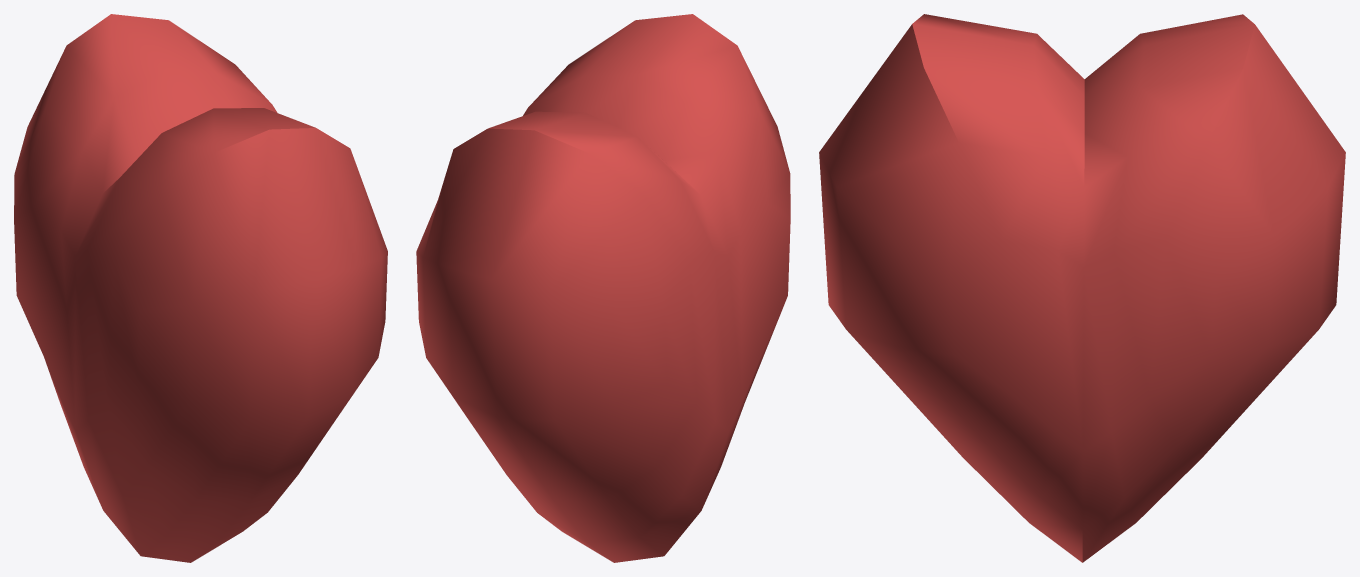
Rendered from health power.fbx.
The picture shows the model from 3 angles, left to right: view 1: azimuth 30°, elevation 25°; view 2: azimuth 150°, elevation 25°; view 3: azimuth 270°, elevation 25°; orthographic projection. The views are drawn at different scales.
Visible parts, largest first — view 1: Cube; view 2: Cube; view 3: Cube.
Part boxes in pixels (box(x1,y1,x2,y2)): Cube: box(14, 14, 387, 562); Cube: box(416, 14, 790, 562); Cube: box(819, 14, 1345, 562).
Size of the model in its own units: 156 by 290 by 261.
